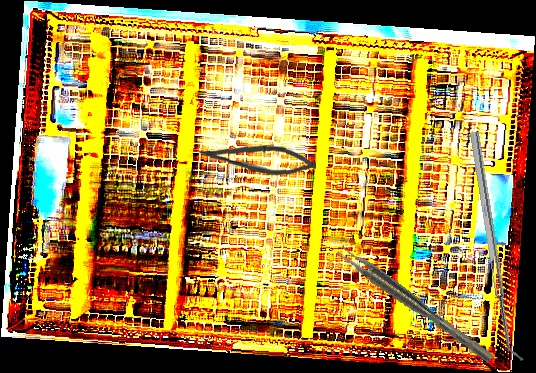Micro Scissor: (198, 141, 317, 179)
Spatula Surgical: (469, 130, 525, 363)
Tissue Forceps: (335, 242, 494, 368)
